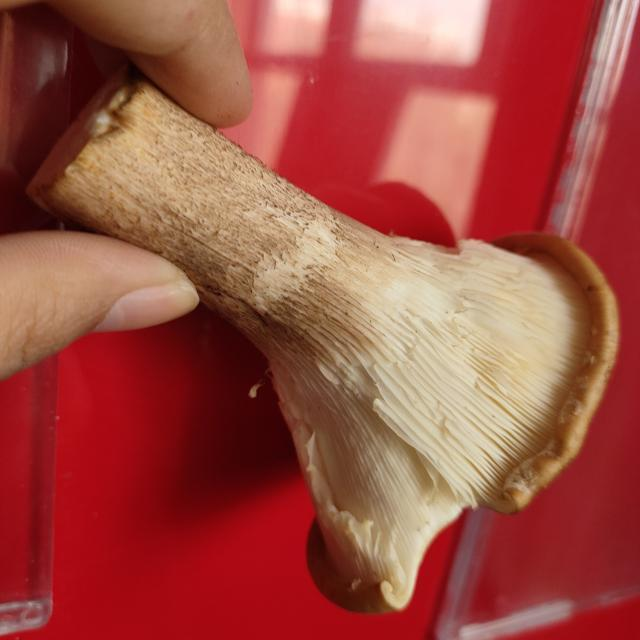Clitocybe maxima: (32, 73, 619, 616)
